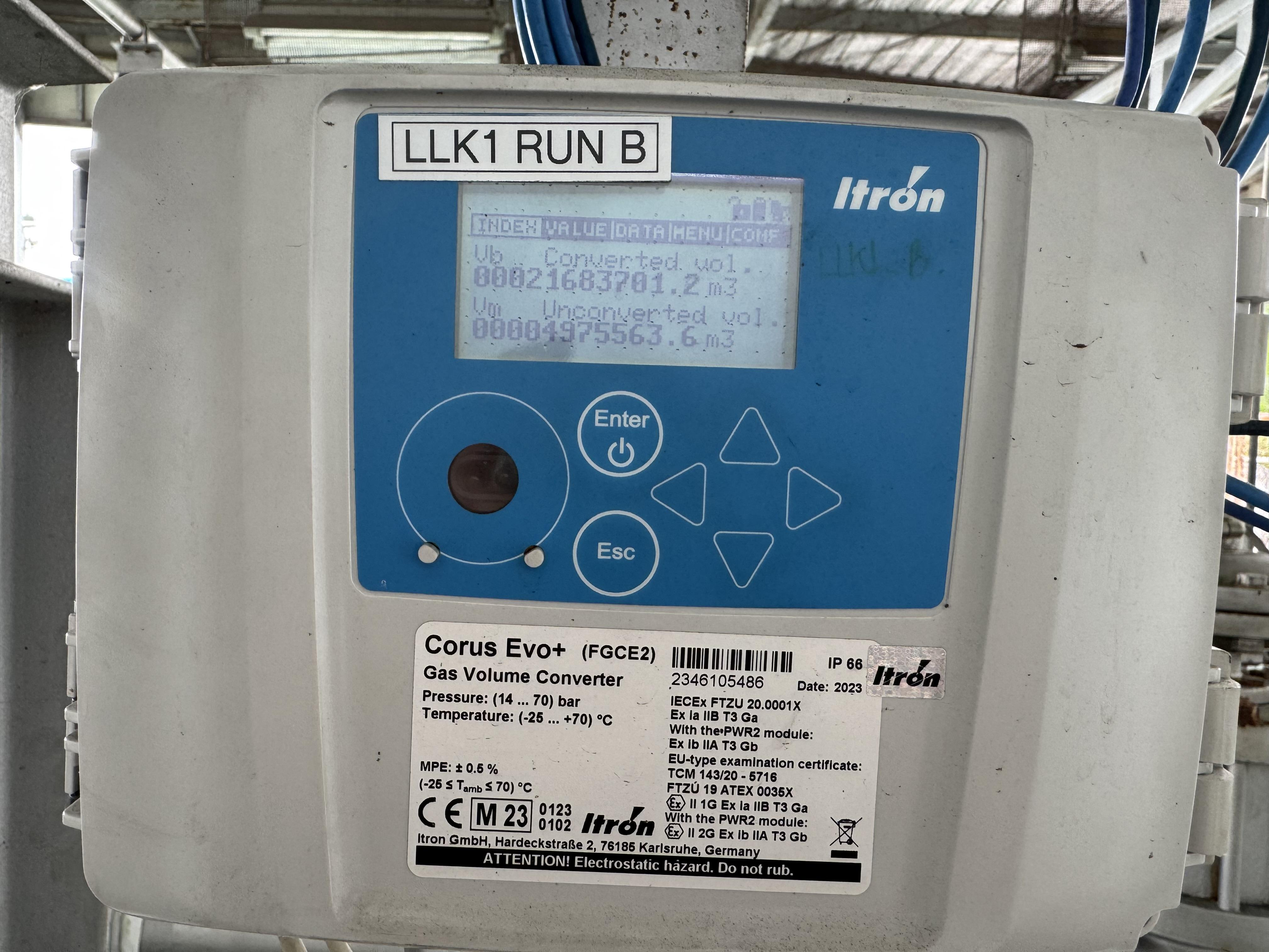digital_screen: (454, 169, 803, 370)
